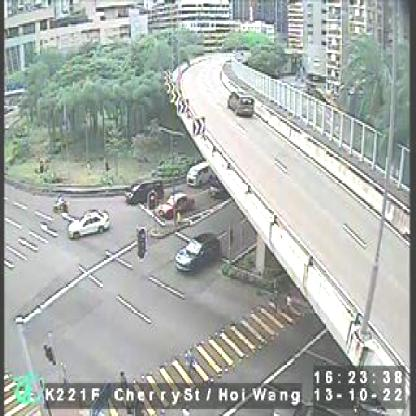Car: (173, 233, 221, 276), (66, 210, 112, 241), (125, 176, 164, 209), (159, 188, 196, 216), (229, 88, 255, 118), (188, 161, 210, 186)
